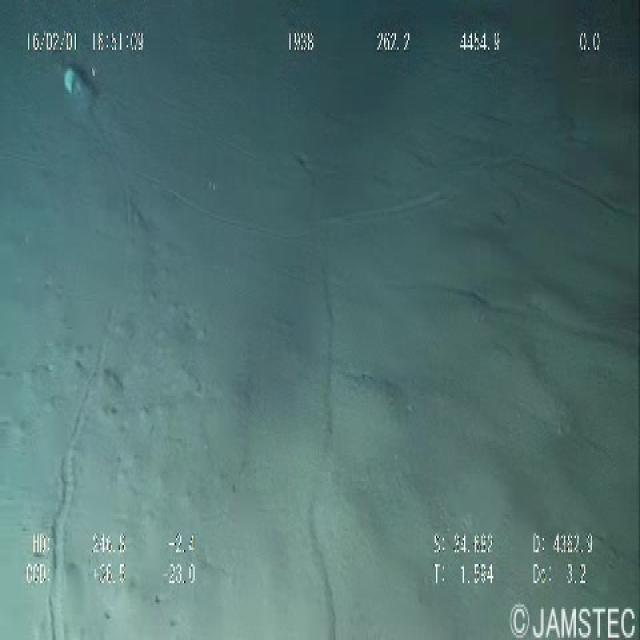plastic: (48, 52, 107, 116)
